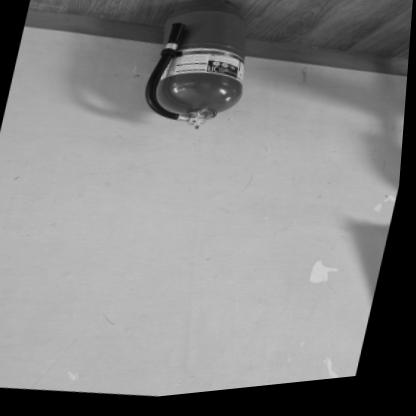FE: (140, 0, 265, 143)
